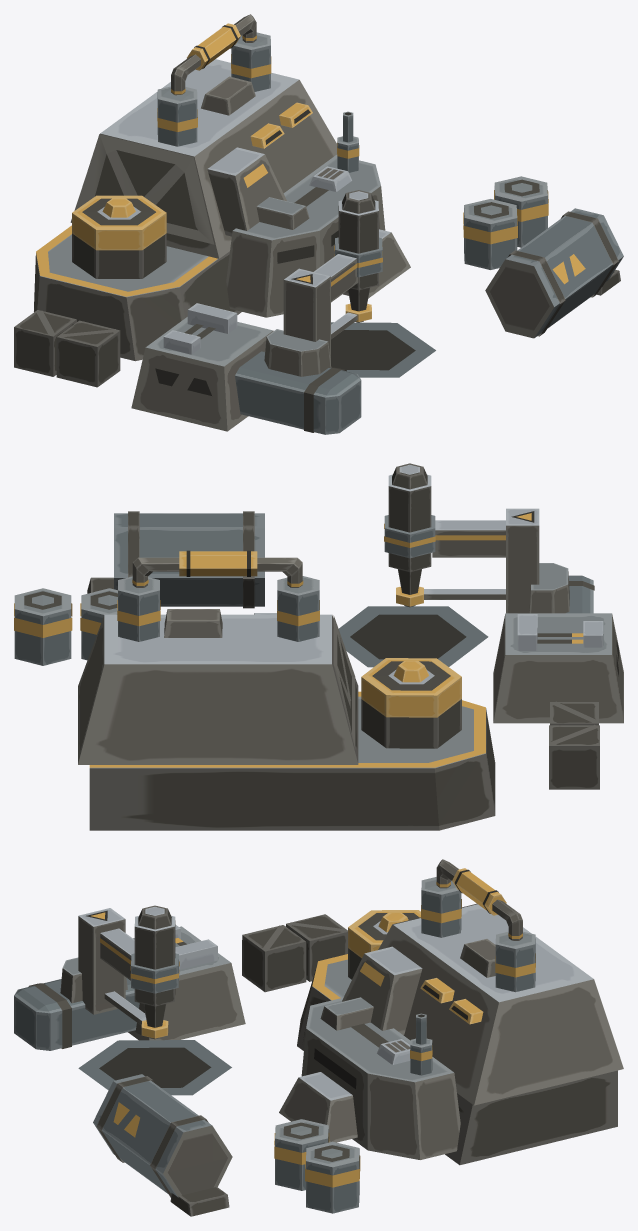
The model's file is mint1.FBX.
The picture shows the model from 3 angles, top to bottom: view 1: azimuth 30°, elevation 25°; view 2: azimuth 150°, elevation 25°; view 3: azimuth 270°, elevation 25°; orthographic projection. The views are drawn at different scales.
Visible parts, largest first — view 1: mint1, a, c; view 2: mint1, a, c, b; view 3: mint1, a, c.
Boxes of the visible parts, bbox=[...] form: mint1: bbox=[14, 14, 623, 434]; a: bbox=[338, 190, 378, 322]; c: bbox=[187, 23, 240, 70]; mint1: bbox=[14, 508, 623, 830]; a: bbox=[388, 463, 431, 607]; c: bbox=[179, 550, 257, 576]; b: bbox=[393, 660, 428, 682]; mint1: bbox=[14, 859, 623, 1216]; a: bbox=[134, 905, 175, 1039]; c: bbox=[452, 868, 506, 915].
Bounding box in the file's own units: 149 × 144 × 57.44.
